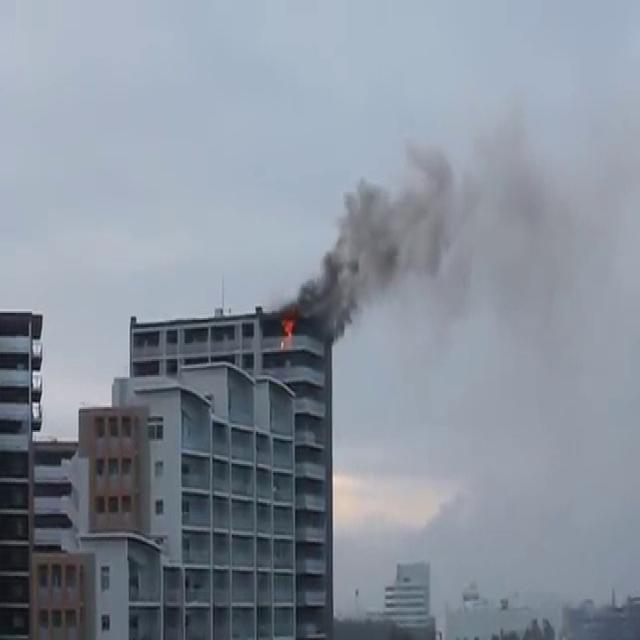Smoke: (288, 125, 516, 344)
